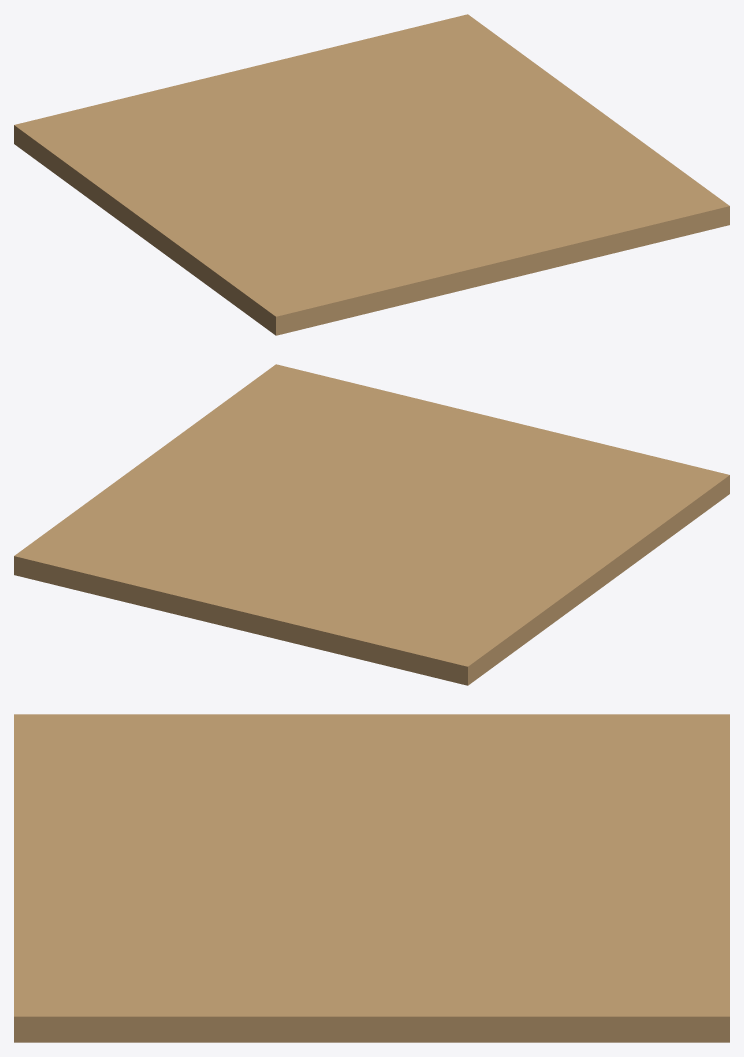
The model's file is 16693_Square_Mirror-Pine_V1.obj.
3 renders of one model, top to bottom at view 1: azimuth 30°, elevation 25°; view 2: azimuth 150°, elevation 25°; view 3: azimuth 270°, elevation 25°, orthographic. The views are drawn at different scales.
Visible parts, largest first — view 1: Square_Mirror_wood__Square_Mirror_wood_; view 2: Square_Mirror_wood__Square_Mirror_wood_; view 3: Square_Mirror_wood__Square_Mirror_wood_.
Boxes of the visible parts, <box> form: Square_Mirror_wood__Square_Mirror_wood_: <box>14,14,729,335</box>; Square_Mirror_wood__Square_Mirror_wood_: <box>14,364,729,685</box>; Square_Mirror_wood__Square_Mirror_wood_: <box>14,714,729,1042</box>.
Bounding box in the file's own units: 25 × 1 × 25.
